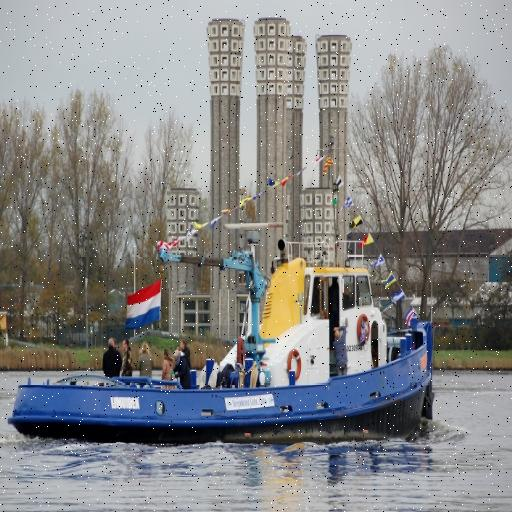tugboat: (3, 215, 443, 458)
